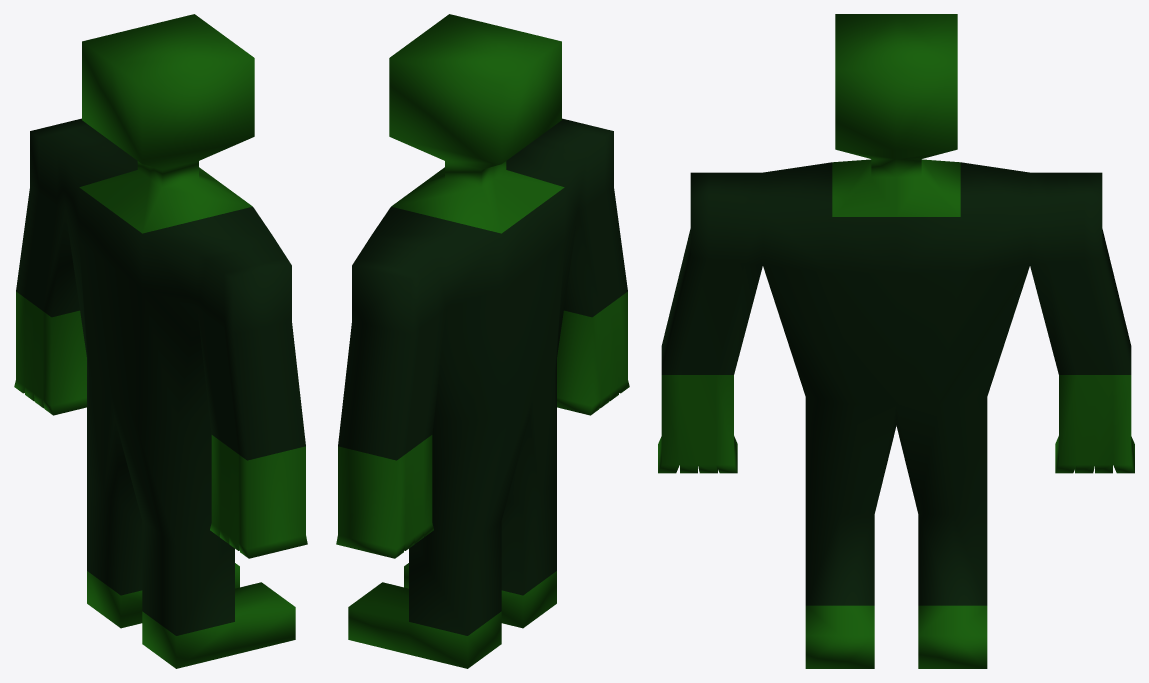
File: Zombie.fbx
3 renders of one model, left to right at view 1: azimuth 30°, elevation 25°; view 2: azimuth 150°, elevation 25°; view 3: azimuth 270°, elevation 25°, orthographic.
Parts seen in each view (by area): view 1: Cowboy; view 2: Cowboy; view 3: Cowboy.
Part boxes in pixels (<box>): Cowboy: <box>14,14,307,668</box>; Cowboy: <box>336,14,629,668</box>; Cowboy: <box>658,14,1134,668</box>.
Size of the model in its own units: 0.3402 by 1.34 by 0.9878.
